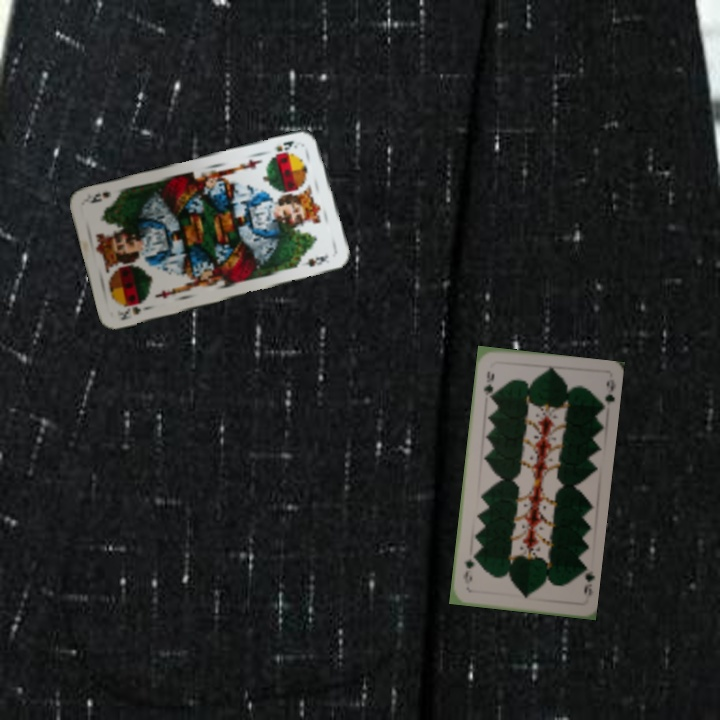G9: (577, 562, 596, 598), (480, 367, 497, 402)
SK: (113, 302, 153, 323), (272, 137, 300, 154)
